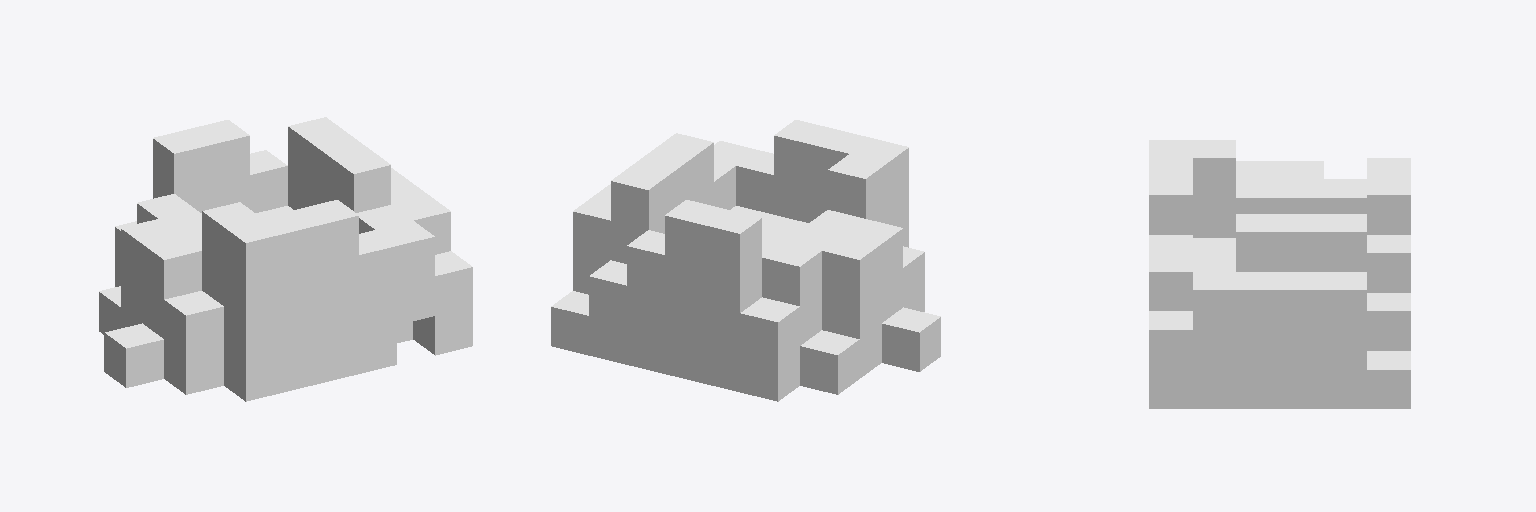
Rendered from stump01.obj.
3 renders of one model, left to right at view 1: azimuth 30°, elevation 25°; view 2: azimuth 150°, elevation 25°; view 3: azimuth 270°, elevation 25°, orthographic.
Parts seen in each view (by area): view 1: object 1; view 2: object 1; view 3: object 1.
Part boxes in pixels (bbox=[...]): object 1: bbox=[99, 117, 472, 401]; object 1: bbox=[551, 120, 940, 401]; object 1: bbox=[1149, 140, 1410, 408].
Size of the model in its own units: 0.8 by 0.4 by 0.6.